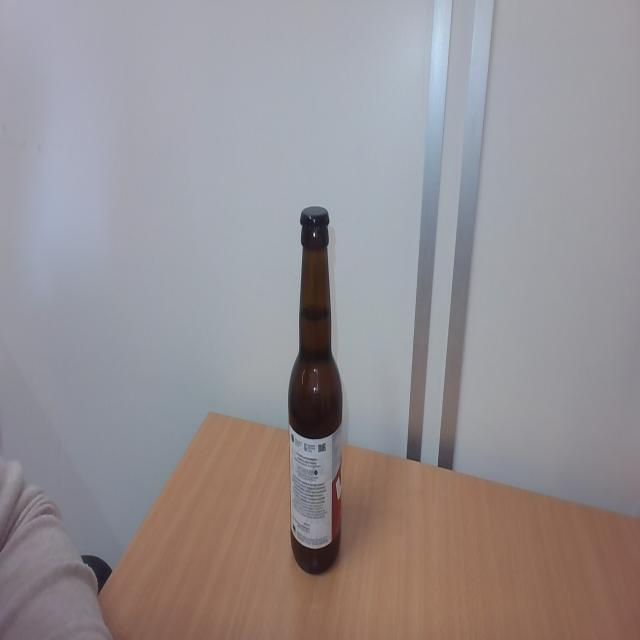Bottle: (286, 232, 344, 574)
Cap: (300, 203, 330, 232)
Label: (289, 423, 343, 550)
